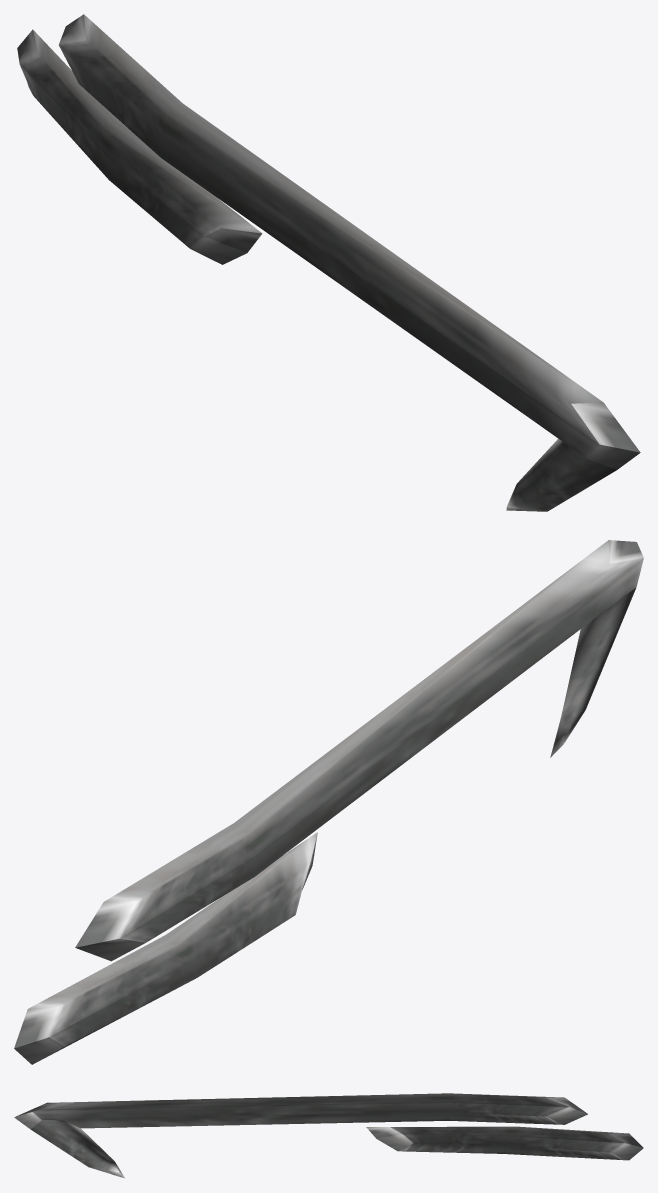
The picture shows the model from 3 angles, top to bottom: view 1: azimuth 30°, elevation 25°; view 2: azimuth 150°, elevation 25°; view 3: azimuth 270°, elevation 25°; orthographic projection. The views are drawn at different scales.
Visible parts, largest first — view 1: wg_l_lr_br1; view 2: wg_l_lr_br1; view 3: wg_l_lr_br1.
Boxes of the visible parts, x1,y1,x2,y2 form: wg_l_lr_br1: (17,14,640,511); wg_l_lr_br1: (14,540,643,1064); wg_l_lr_br1: (14,1093,643,1178).
Size of the model in its own units: 0.0849 by 0.2375 by 1.59.
Materials: 1 (1 with a texture image).
